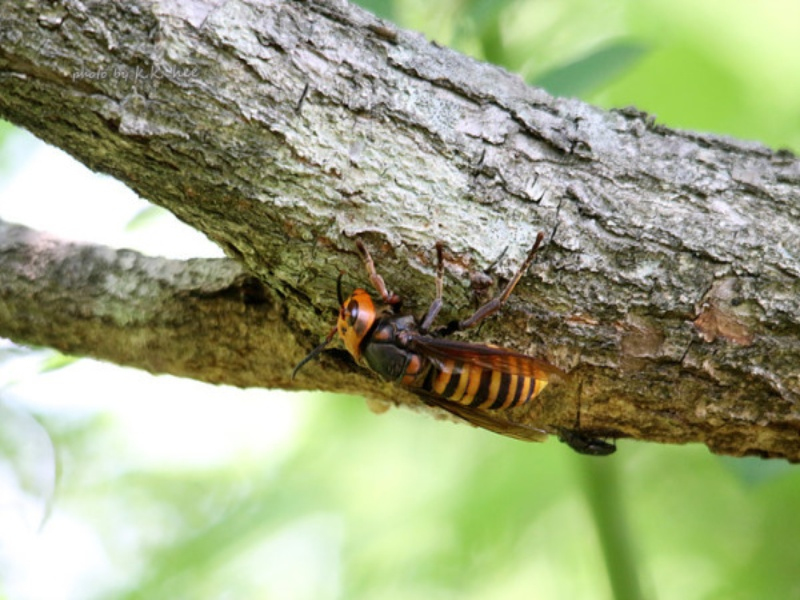asian_giant_hornet: (325, 225, 572, 418)
